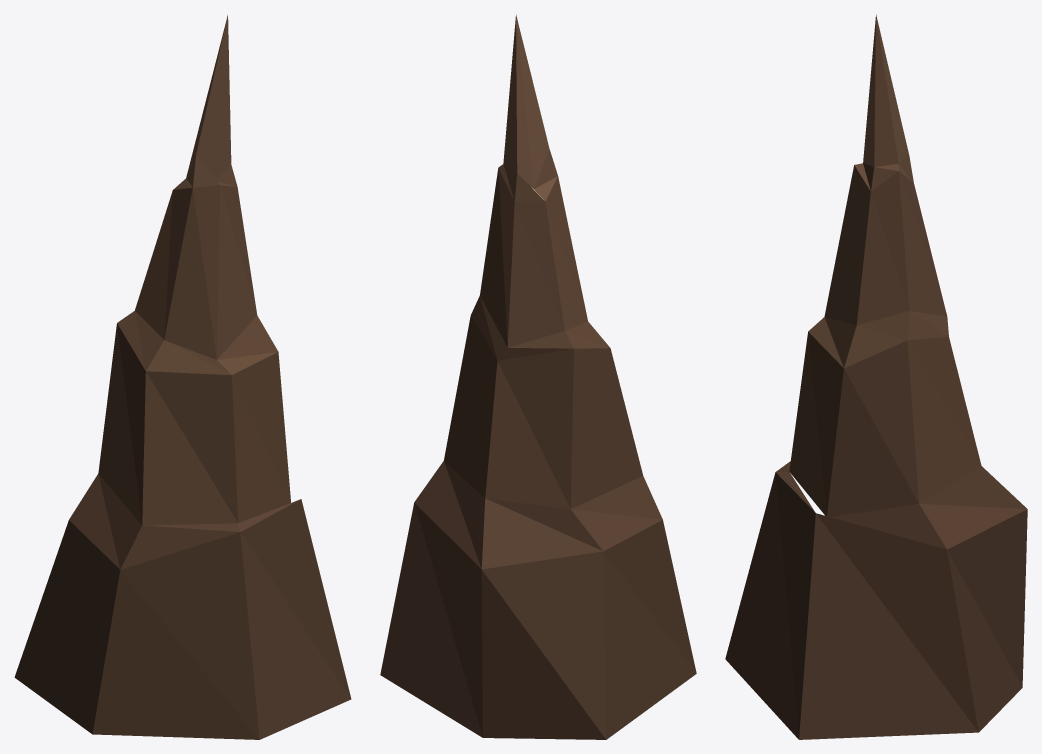
The model's file is tl_env_stalagmite_a_v01.glb.
3 renders of one model, left to right at view 1: azimuth 30°, elevation 25°; view 2: azimuth 150°, elevation 25°; view 3: azimuth 270°, elevation 25°, orthographic. The views are drawn at different scales.
Visible parts, largest first — view 1: tl_env_stalagmite_a_v01; view 2: tl_env_stalagmite_a_v01; view 3: tl_env_stalagmite_a_v01.
Part boxes in pixels (left/top/right/bottom): tl_env_stalagmite_a_v01: left=14, top=15, right=351, bottom=739; tl_env_stalagmite_a_v01: left=380, top=14, right=696, bottom=739; tl_env_stalagmite_a_v01: left=725, top=14, right=1027, bottom=739.
Size of the model in its own units: 0.6639 by 1.74 by 0.6874.
